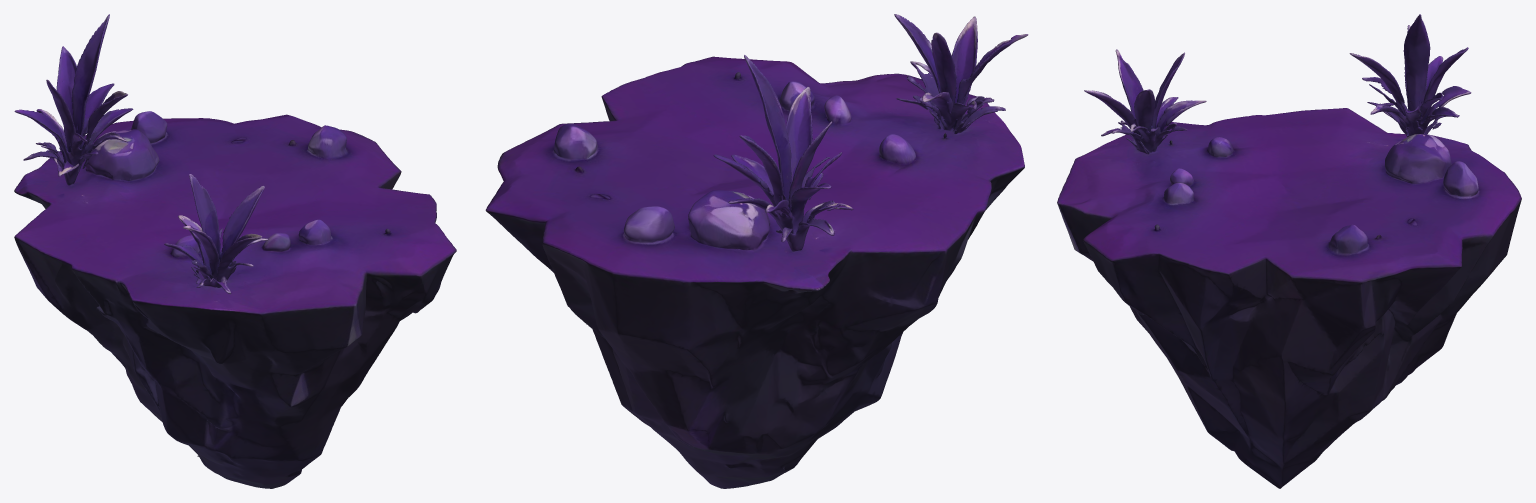
Rendered from NeonIsland.glb.
3 views of the same model, side by side, from view 1: azimuth 30°, elevation 25°; view 2: azimuth 150°, elevation 25°; view 3: azimuth 270°, elevation 25° (orthographic). The views are drawn at different scales.
Visible parts, largest first — view 1: tripo_node_20747bf8-14e0-43b0-a29e-b13215645e12; view 2: tripo_node_20747bf8-14e0-43b0-a29e-b13215645e12; view 3: tripo_node_20747bf8-14e0-43b0-a29e-b13215645e12.
Part boxes in pixels (bbox=[...]): tripo_node_20747bf8-14e0-43b0-a29e-b13215645e12: bbox=[14, 14, 456, 488]; tripo_node_20747bf8-14e0-43b0-a29e-b13215645e12: bbox=[485, 14, 1028, 488]; tripo_node_20747bf8-14e0-43b0-a29e-b13215645e12: bbox=[1057, 14, 1521, 488].
Bounding box in the file's own units: 0.8697 × 1 × 0.9843.
Materials: 1 (1 with a texture image).
